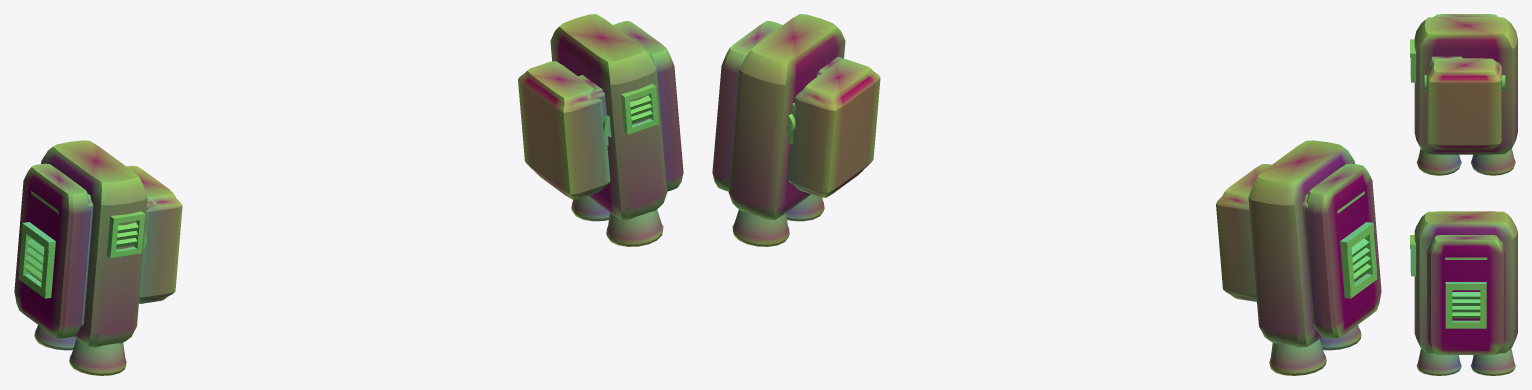
File: llm_gen_leg_thrusters_085_cd68ac.glb
3 views of the same model, side by side, from view 1: azimuth 30°, elevation 25°; view 2: azimuth 150°, elevation 25°; view 3: azimuth 270°, elevation 25° (orthographic). The views are drawn at different scales.
Visible parts, largest first — view 1: greave_pylon_0_titanium_silver_r, greave_pylon_0_titanium_silver_l, adapter_calf_clamp_r, lateral_binder_shroud_2_wing_white_l, adapter_calf_clamp_l, lateral_binder_shroud_2_wing_white_r, ankle_vector_bell_b_7_vernier_bell_vernier_l, adapter_sub_binder_side_vent_3_dark_l, ankle_vector_bell_b_7_vernier_bell_vernier_r, adapter_sub_greave_intake_grille_5_dark_l, adapter_sub_greave_intake_grille_5_dark_r, ankle_vector_bell_a_6_vernier_bell_vernier_r (+2 smaller); view 2: greave_pylon_0_titanium_silver_r, greave_pylon_0_titanium_silver_l, adapter_calf_clamp_r, lateral_binder_shroud_2_wing_white_l, adapter_calf_clamp_l, lateral_binder_shroud_2_wing_white_r, ankle_vector_bell_a_6_vernier_bell_vernier_l, adapter_sub_binder_side_vent_3_dark_l, ankle_vector_bell_a_6_vernier_bell_vernier_r, ankle_vector_bell_b_7_vernier_bell_vernier_r, binder_side_vent_3_gold_l, ankle_vector_bell_b_7_vernier_bell_vernier_l; view 3: lateral_binder_shroud_2_wing_white_r, greave_pylon_0_titanium_silver_l, adapter_calf_clamp_l, greave_pylon_0_titanium_silver_r, adapter_sub_binder_side_vent_3_dark_r, ankle_vector_bell_a_6_vernier_bell_vernier_r, ankle_vector_bell_b_7_vernier_bell_vernier_r, ankle_vector_bell_b_7_vernier_bell_vernier_l, ankle_vector_bell_a_6_vernier_bell_vernier_l, binder_side_vent_3_gold_r, adapter_sub_greave_intake_grille_5_dark_l, adapter_sub_greave_intake_grille_5_dark_r (+4 smaller).
Part boxes in pixels (x1,y1,x2,y2): greave_pylon_0_titanium_silver_r: (550,14,667,219); greave_pylon_0_titanium_silver_l: (41,140,147,347); adapter_calf_clamp_r: (518,61,610,199); lateral_binder_shroud_2_wing_white_l: (14,163,90,338); adapter_calf_clamp_l: (126,165,182,303); lateral_binder_shroud_2_wing_white_r: (613,21,683,191); ankle_vector_bell_b_7_vernier_bell_vernier_l: (69,339,126,375); adapter_sub_binder_side_vent_3_dark_l: (18,222,55,298); ankle_vector_bell_b_7_vernier_bell_vernier_r: (606,209,663,246); adapter_sub_greave_intake_grille_5_dark_l: (107,211,145,257); adapter_sub_greave_intake_grille_5_dark_r: (621,83,658,134); ankle_vector_bell_a_6_vernier_bell_vernier_r: (571,196,609,221); greave_pylon_0_titanium_silver_r: (728,14,845,219); greave_pylon_0_titanium_silver_l: (1248,140,1354,347); adapter_calf_clamp_r: (788,59,880,197); lateral_binder_shroud_2_wing_white_l: (1305,163,1381,338); adapter_calf_clamp_l: (1216,164,1271,301); lateral_binder_shroud_2_wing_white_r: (712,21,782,191); ankle_vector_bell_a_6_vernier_bell_vernier_l: (1269,339,1326,375); adapter_sub_binder_side_vent_3_dark_l: (1340,222,1377,298); ankle_vector_bell_a_6_vernier_bell_vernier_r: (732,209,789,246); ankle_vector_bell_b_7_vernier_bell_vernier_r: (786,194,824,221); binder_side_vent_3_gold_l: (1351,238,1371,281); ankle_vector_bell_b_7_vernier_bell_vernier_l: (1320,325,1361,350); lateral_binder_shroud_2_wing_white_r: (1427,235,1505,354); greave_pylon_0_titanium_silver_l: (1414,17,1517,154); adapter_calf_clamp_l: (1426,58,1501,149); greave_pylon_0_titanium_silver_r: (1414,211,1517,353); adapter_sub_binder_side_vent_3_dark_r: (1445,282,1486,328); ankle_vector_bell_a_6_vernier_bell_vernier_r: (1470,348,1515,375); ankle_vector_bell_b_7_vernier_bell_vernier_r: (1416,348,1461,375); ankle_vector_bell_b_7_vernier_bell_vernier_l: (1416,148,1461,175); ankle_vector_bell_a_6_vernier_bell_vernier_l: (1470,148,1515,175); binder_side_vent_3_gold_r: (1452,292,1480,318); adapter_sub_greave_intake_grille_5_dark_l: (1410,39,1415,82); adapter_sub_greave_intake_grille_5_dark_r: (1410,235,1415,276).
Bounding box in the file's own units: 82.98 × 23.9 × 15.73.
